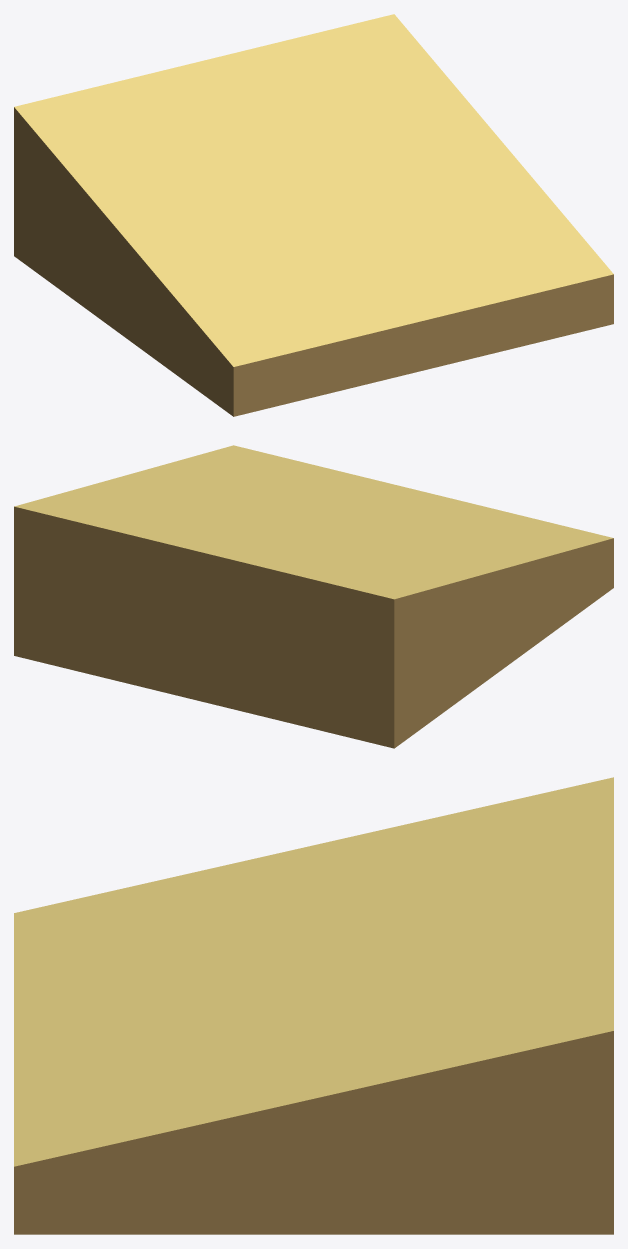
The model's file is Terrain_Tile_Sand_Ramp_High_01.fbx.
3 views of the same model, one above another, from view 1: azimuth 30°, elevation 25°; view 2: azimuth 150°, elevation 25°; view 3: azimuth 270°, elevation 25° (orthographic). The views are drawn at different scales.
Visible parts, largest first — view 1: Model; view 2: Model; view 3: Model.
Boxes of the visible parts, bbox=[...] form: Model: bbox=[14, 14, 613, 416]; Model: bbox=[14, 445, 613, 748]; Model: bbox=[14, 777, 613, 1234].
Bounding box in the file's own units: 2000 × 750 × 2000.
